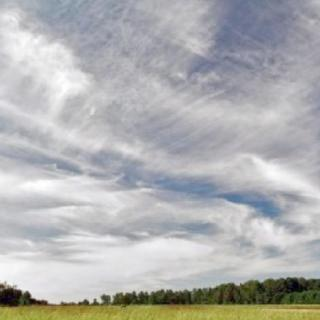Cirrostratus: (0, 1, 320, 282)
